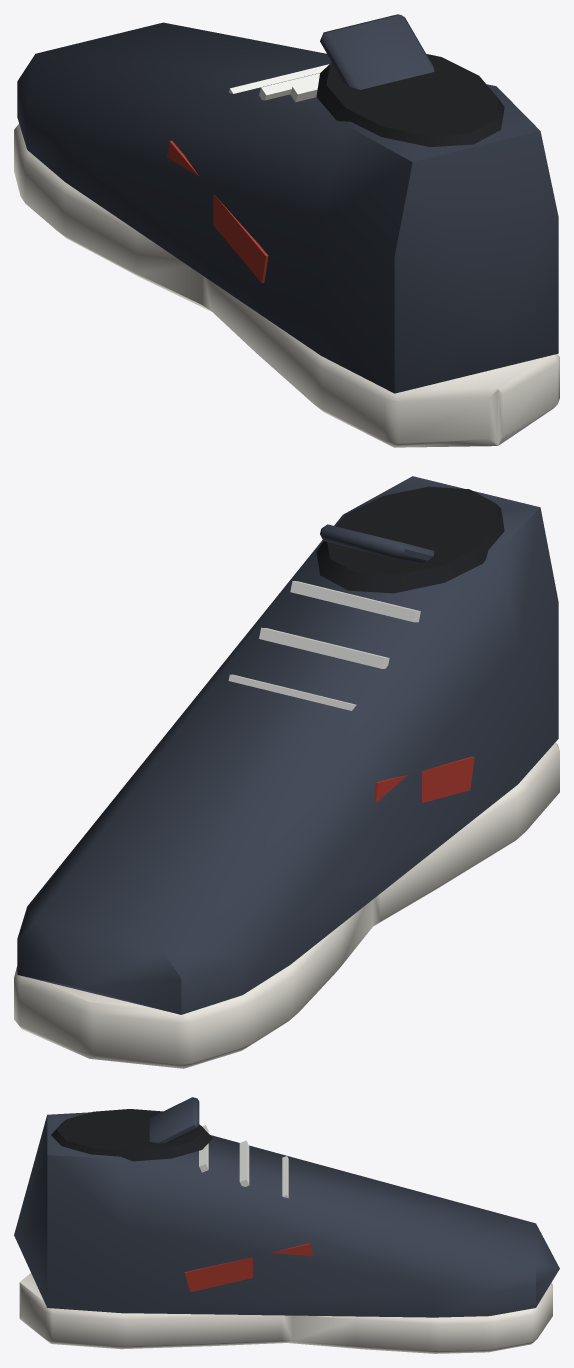
File: shoe.glb
The picture shows the model from 3 angles, top to bottom: view 1: azimuth 30°, elevation 25°; view 2: azimuth 150°, elevation 25°; view 3: azimuth 270°, elevation 25°; orthographic projection. The views are drawn at different scales.
Visible parts, largest first — view 1: shoe; view 2: shoe; view 3: shoe.
Part boxes in pixels (bbox=[...]): shoe: bbox=[14, 14, 559, 447]; shoe: bbox=[14, 476, 559, 1068]; shoe: bbox=[14, 1097, 559, 1353].
Bounding box in the file's own units: 0.0913 × 0.12 × 0.2827.
